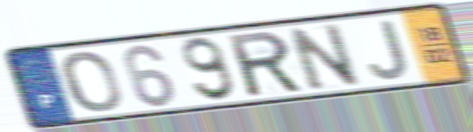6: (120, 41, 178, 109)
9: (180, 35, 240, 104)
J: (365, 17, 412, 82)
N: (283, 21, 365, 93)
O: (60, 49, 125, 115)
R: (224, 28, 307, 99)
